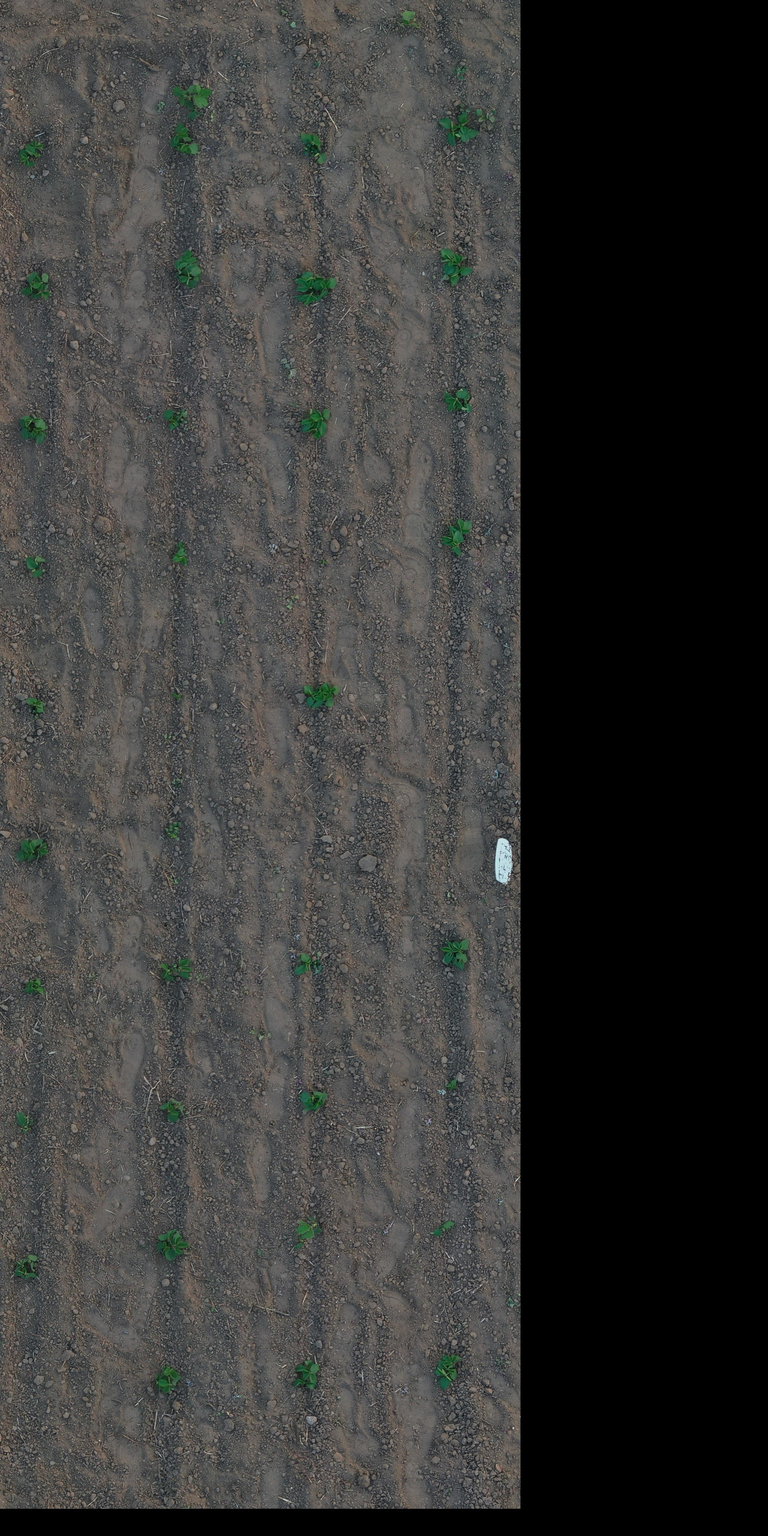s: (187, 84, 213, 120), (296, 1216, 323, 1240), (438, 117, 459, 147), (172, 84, 198, 108), (310, 407, 330, 436), (444, 388, 468, 412), (178, 262, 199, 289), (169, 122, 189, 149), (449, 266, 474, 287), (293, 288, 322, 306), (23, 838, 43, 862), (157, 1375, 182, 1394), (159, 1100, 180, 1122), (20, 271, 38, 296), (294, 277, 324, 292), (170, 1230, 188, 1255), (300, 132, 322, 152), (14, 839, 33, 862), (173, 256, 197, 274), (434, 1366, 452, 1390), (177, 136, 199, 155), (457, 110, 470, 142), (20, 415, 46, 431), (28, 283, 51, 301), (311, 692, 334, 710), (294, 952, 312, 975), (449, 518, 473, 535), (452, 939, 469, 963), (156, 1240, 175, 1261), (438, 1359, 457, 1380), (300, 408, 316, 432), (441, 938, 455, 965), (162, 409, 179, 431), (158, 1229, 177, 1248), (401, 10, 421, 28), (320, 277, 337, 298), (433, 1220, 455, 1236), (451, 531, 464, 558), (454, 128, 478, 142), (303, 684, 317, 708), (10, 1268, 37, 1280), (32, 272, 49, 291), (26, 559, 43, 578), (302, 1364, 319, 1383), (300, 1090, 324, 1103), (305, 422, 322, 440), (26, 697, 44, 714), (19, 149, 35, 168), (28, 426, 44, 445), (448, 256, 463, 276), (440, 256, 455, 276), (313, 1092, 328, 1112), (293, 1378, 317, 1390), (18, 418, 31, 440), (178, 958, 191, 980), (16, 1112, 29, 1134), (159, 963, 174, 982), (24, 143, 42, 158), (310, 149, 328, 164), (300, 271, 324, 282), (36, 842, 49, 862), (171, 1099, 186, 1116), (322, 682, 340, 696), (295, 1360, 315, 1372), (442, 1354, 462, 1366), (188, 265, 201, 283), (14, 1258, 29, 1273), (441, 530, 454, 547), (462, 392, 472, 414), (24, 985, 44, 996), (26, 555, 46, 565), (28, 140, 46, 151), (27, 1254, 38, 1272), (164, 1366, 178, 1380), (172, 553, 187, 566), (26, 977, 41, 990), (452, 956, 465, 970), (176, 541, 187, 556), (155, 1372, 164, 1390), (172, 145, 188, 154), (176, 410, 188, 422), (294, 1238, 305, 1251), (302, 1101, 315, 1112), (452, 404, 468, 412), (445, 1079, 457, 1087), (167, 830, 178, 838), (172, 692, 182, 700), (315, 686, 323, 696), (313, 959, 321, 969), (170, 962, 177, 972), (169, 822, 177, 829), (176, 409, 185, 415), (304, 148, 310, 156), (164, 828, 173, 833), (180, 418, 187, 424), (33, 714, 39, 720), (450, 1084, 456, 1090), (32, 710, 38, 714), (176, 822, 181, 826)
